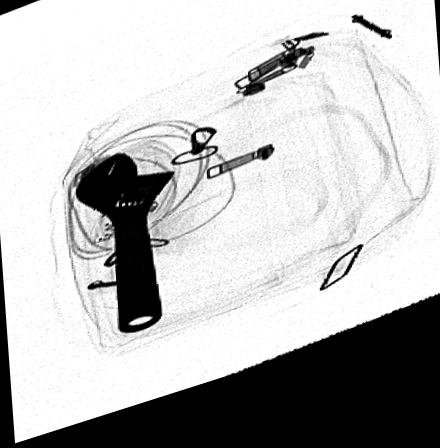Wrench: (75, 159, 178, 341)
